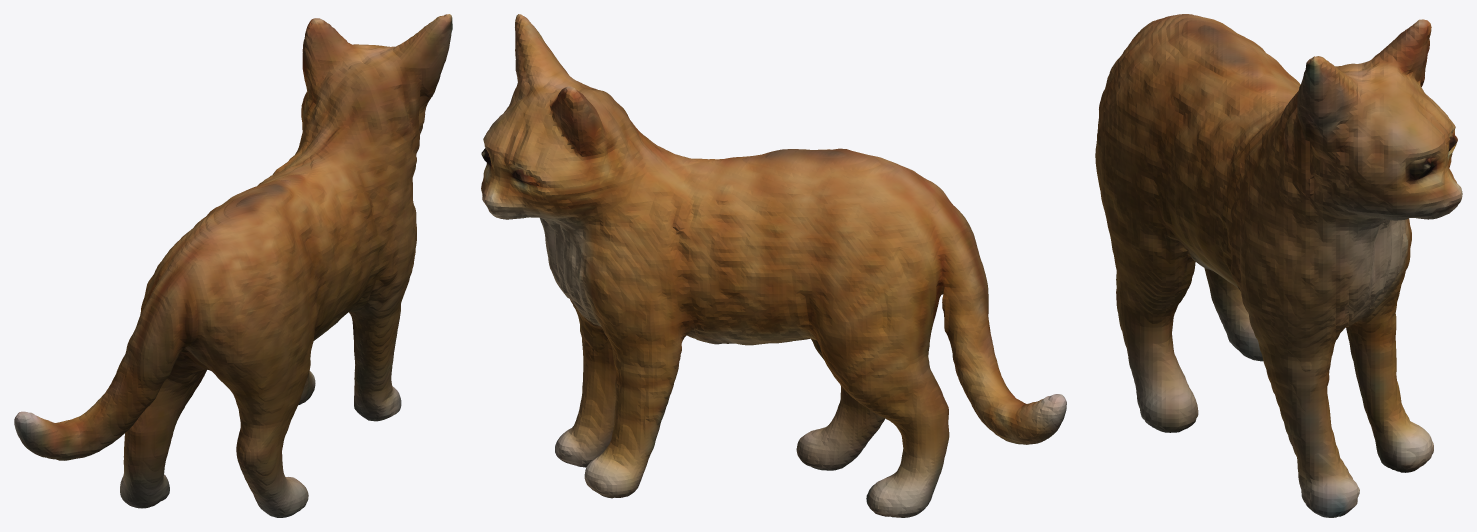
Rendered from triposr_cat_lincolor.glb.
3 views of the same model, side by side, from view 1: azimuth 30°, elevation 25°; view 2: azimuth 150°, elevation 25°; view 3: azimuth 270°, elevation 25° (orthographic). The views are drawn at different scales.
Parts seen in each view (by area): view 1: world_1; view 2: world_1; view 3: world_1.
Part boxes in pixels (box(x1,y1,x2,y2)): world_1: box(14, 14, 452, 517); world_1: box(481, 14, 1066, 517); world_1: box(1095, 14, 1462, 517).
Bounding box in the file's own units: 1.07 × 0.8736 × 0.5744.
